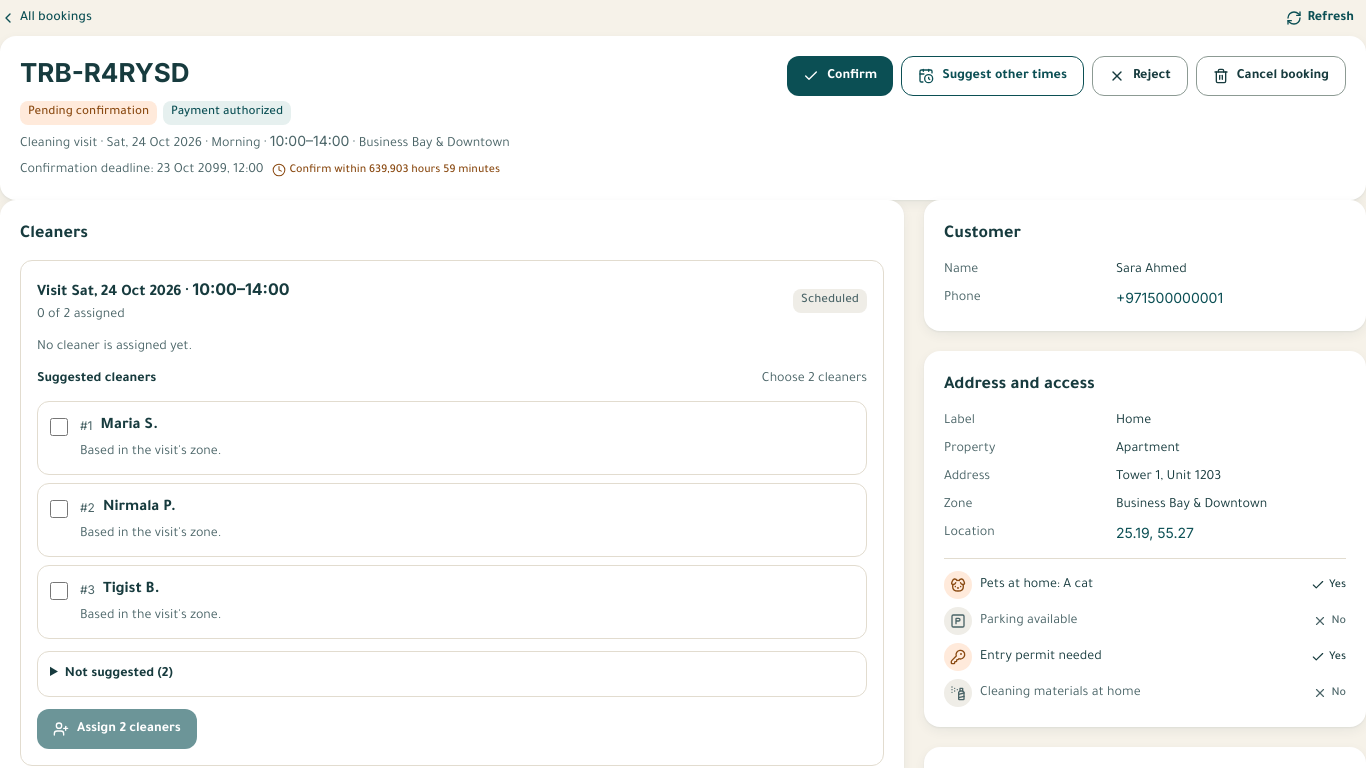
A03 booking actions › confirm: focus goes to the booking heading once the Confirm button is gone
Click the button "Confirm". click: (840, 76)
box: [787, 56, 893, 96]
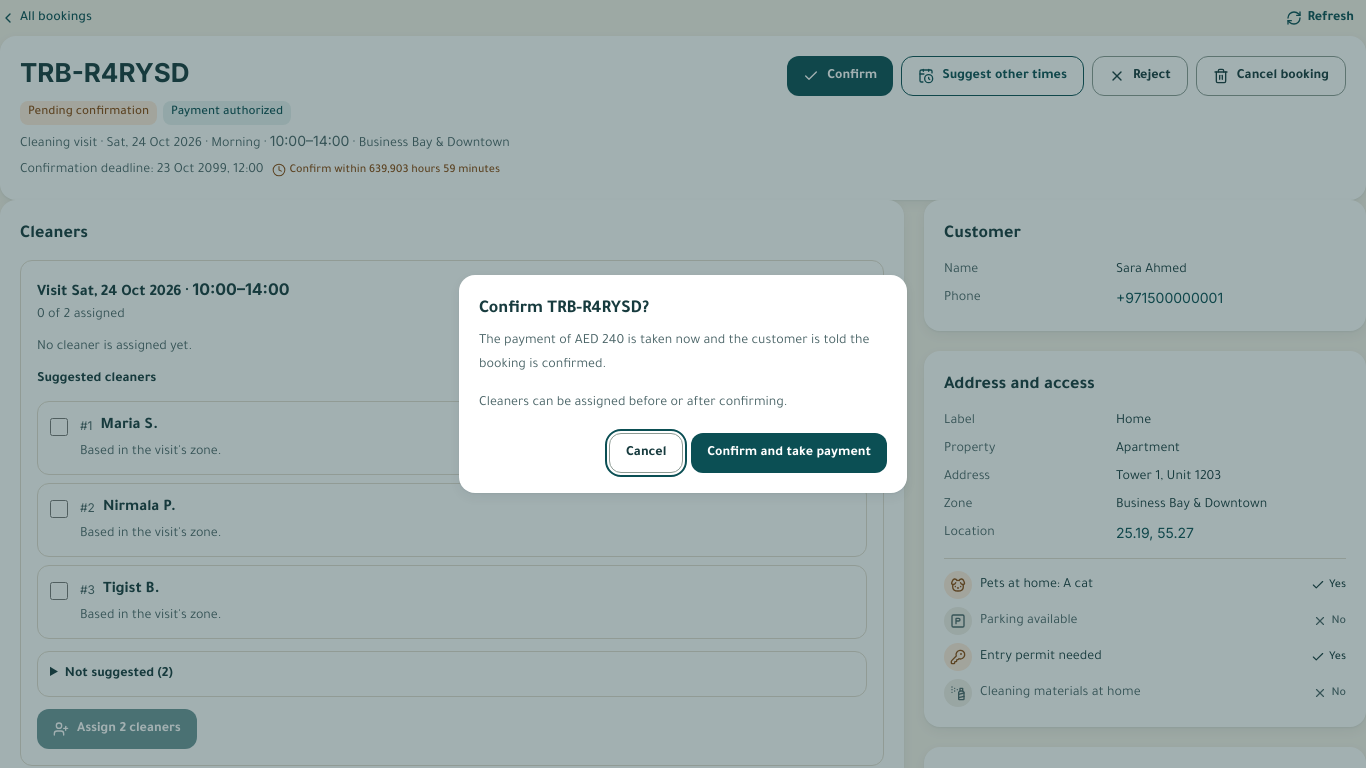
Click the button "Confirm and take payment". click: (789, 453)
box: [691, 433, 887, 473]
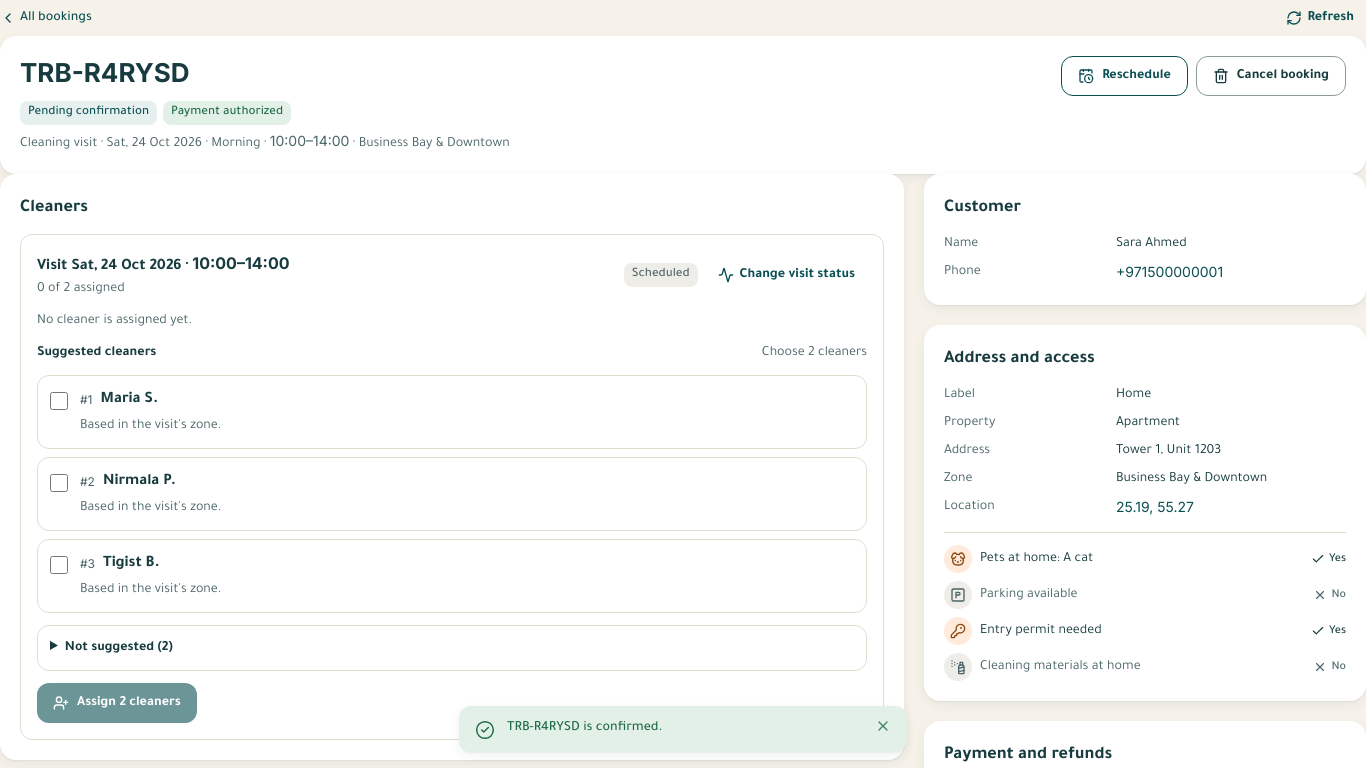
Check: the text "TRB-R4RYSD is confirmed." is shown, box [507, 721, 662, 735]
